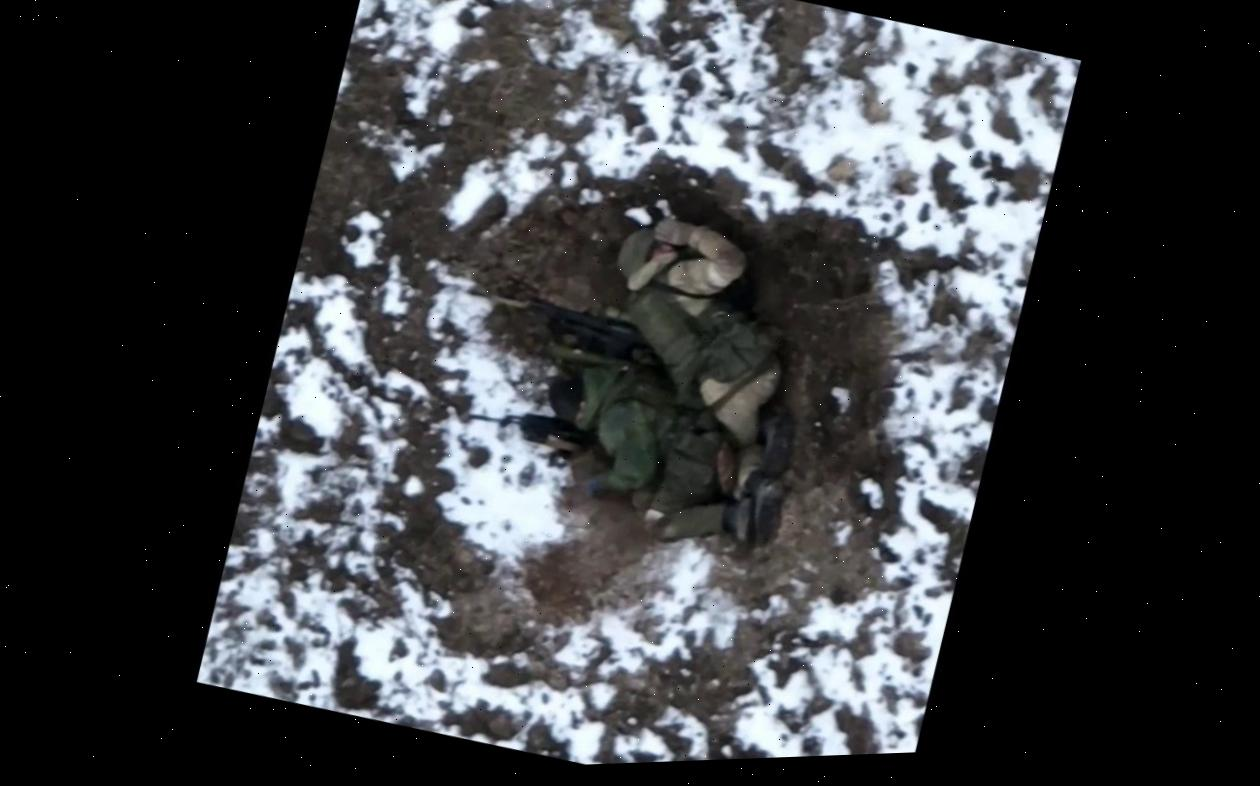person: (557, 199, 850, 554), (448, 315, 790, 566)
